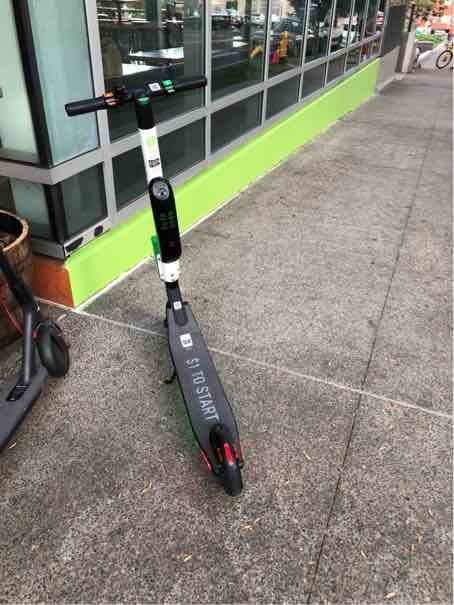scooter: (52, 75, 297, 510)
